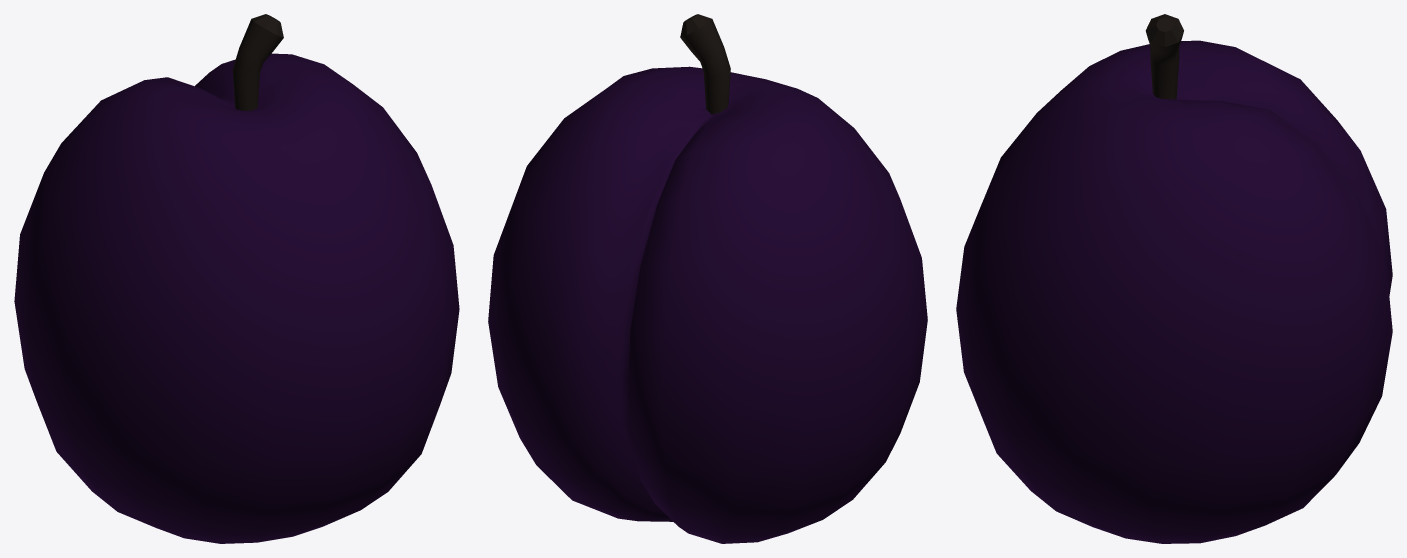
The model's file is Plum.FBX.
The picture shows the model from 3 angles, left to right: view 1: azimuth 30°, elevation 25°; view 2: azimuth 150°, elevation 25°; view 3: azimuth 270°, elevation 25°; orthographic projection. The views are drawn at different scales.
Parts seen in each view (by area): view 1: Plum; view 2: Plum; view 3: Plum.
Boxes of the visible parts, left/top/right/bottom form: Plum: left=14, top=14, right=459, bottom=543; Plum: left=488, top=14, right=927, bottom=543; Plum: left=956, top=14, right=1392, bottom=543.
Size of the model in its own units: 970 by 957 by 1222.
